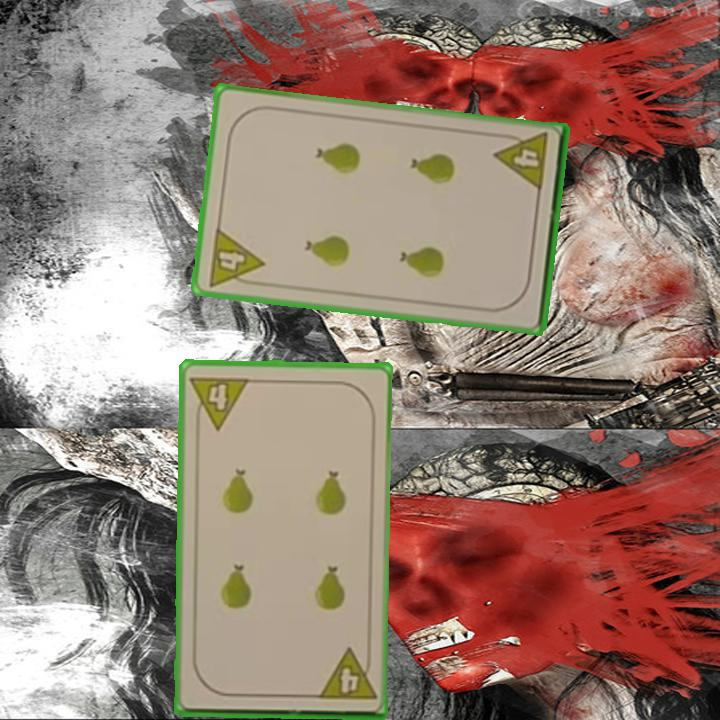4p: (204, 224, 267, 290), (491, 129, 551, 195), (187, 372, 252, 432), (314, 645, 379, 703)
